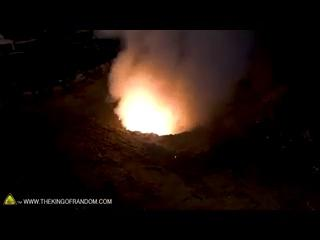Fire: (118, 68, 184, 136)
